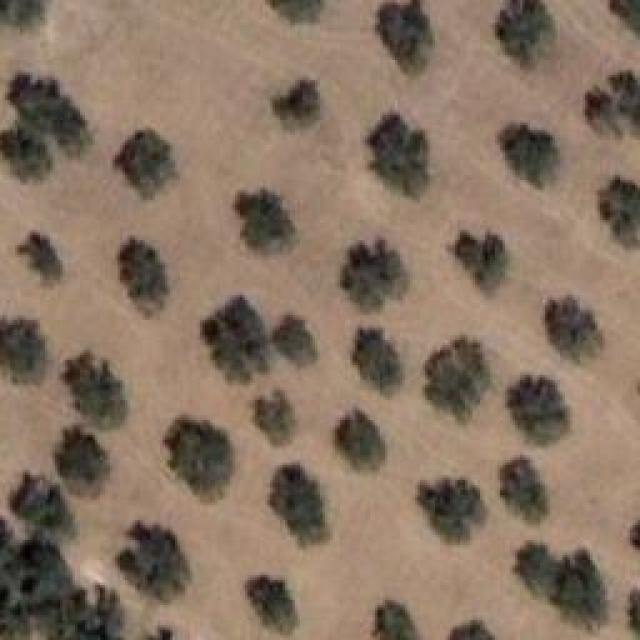Tree: (110, 515, 194, 605), (8, 68, 91, 157), (8, 585, 121, 640), (265, 458, 332, 550), (165, 415, 235, 501), (202, 295, 270, 382), (550, 535, 616, 622), (425, 338, 491, 424), (115, 130, 189, 205), (417, 470, 491, 541), (63, 353, 129, 430), (55, 428, 124, 501), (368, 115, 428, 197), (18, 470, 84, 544), (330, 403, 398, 473), (341, 238, 408, 308), (0, 538, 69, 603), (508, 375, 569, 445), (375, 0, 432, 74), (497, 455, 554, 528), (263, 70, 329, 133), (545, 295, 604, 362), (497, 0, 555, 66), (500, 125, 560, 188), (235, 193, 296, 251), (115, 238, 162, 313), (585, 73, 640, 136), (353, 328, 404, 394), (455, 233, 509, 294), (248, 570, 307, 624), (0, 119, 53, 176), (257, 388, 308, 447), (0, 318, 45, 384), (600, 178, 640, 248), (445, 592, 503, 640), (275, 307, 322, 366), (370, 590, 425, 640), (512, 537, 560, 594), (23, 232, 68, 286), (270, 0, 331, 34), (2, 0, 51, 31), (607, 0, 640, 37)
